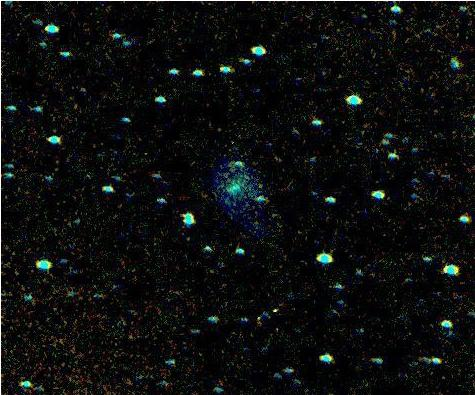star: (191, 184, 221, 214)
